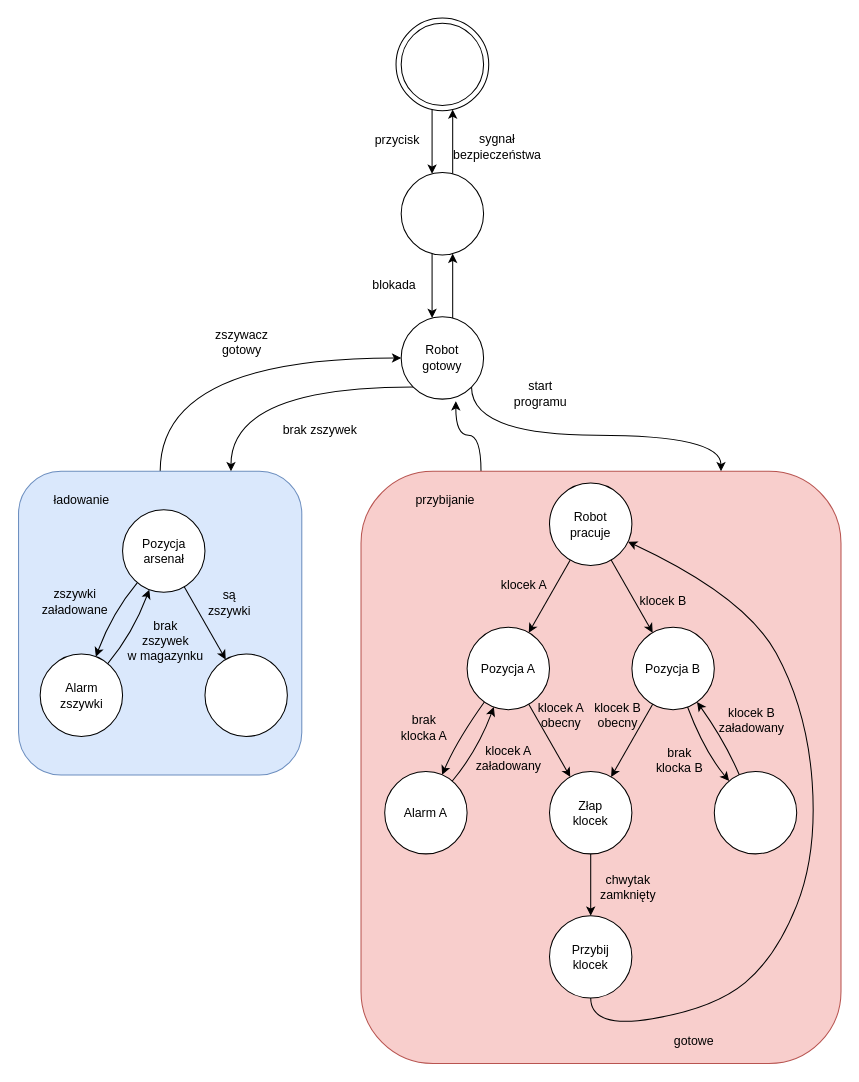
Some shapes in this 859 by 1082 pixel diagram are drawn without their labels. The centre of each missing label's shape, as x and y in pixels:
"Alarm B" belongs at [755,812].
"Wózek wsunięty" belongs at [442,213].
"Wózek wysunięty" belongs at [442,64].
"Ładuj zszywki" belongs at [245,694].
